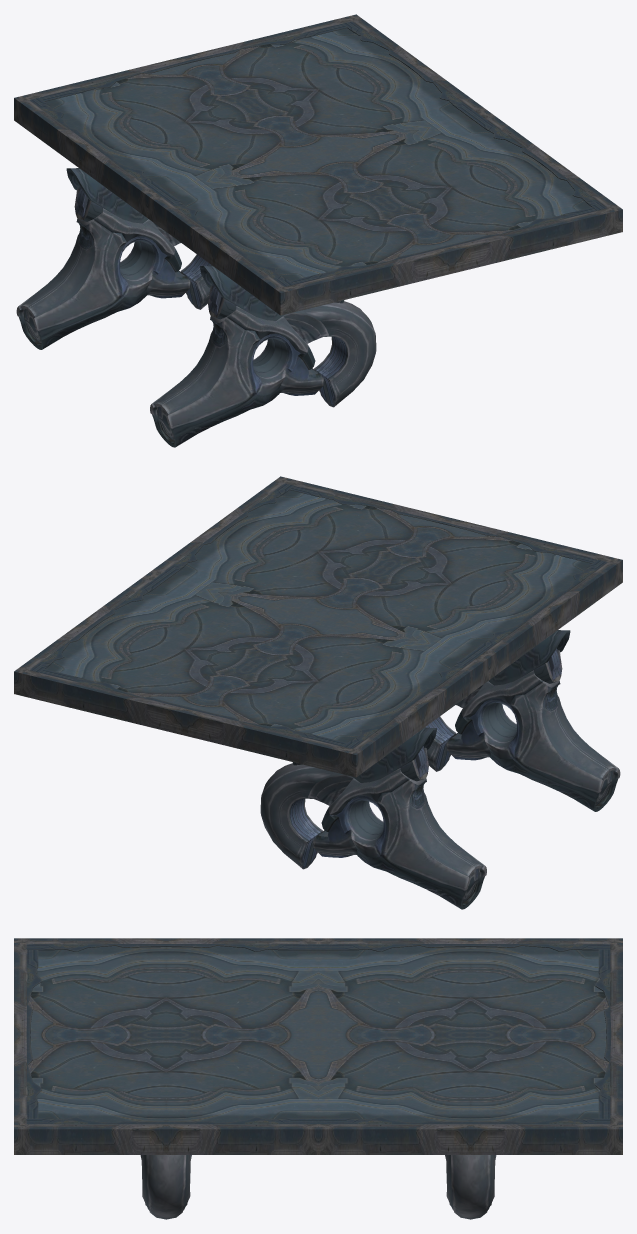
File: sm_stk_singlefloor_001a.glb
3 renders of one model, top to bottom at view 1: azimuth 30°, elevation 25°; view 2: azimuth 150°, elevation 25°; view 3: azimuth 270°, elevation 25°, orthographic. The views are drawn at different scales.
Parts seen in each view (by area): view 1: sm_stk_singlefloor_001a; view 2: sm_stk_singlefloor_001a; view 3: sm_stk_singlefloor_001a.
Boxes of the visible parts, <box> form: sm_stk_singlefloor_001a: <box>14,14,622,447</box>; sm_stk_singlefloor_001a: <box>14,476,622,909</box>; sm_stk_singlefloor_001a: <box>14,938,622,1219</box>.
Bounding box in the file's own units: 17.28 × 7.94 × 20.11.
3 materials, 3 textured.
